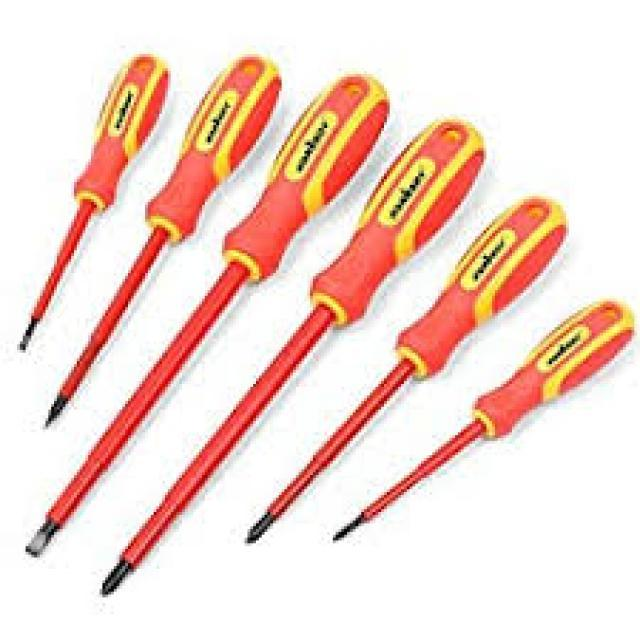screwdriver: (94, 116, 492, 604), (19, 70, 396, 562), (233, 194, 569, 546), (41, 51, 286, 430), (327, 297, 640, 542), (11, 51, 171, 353)
